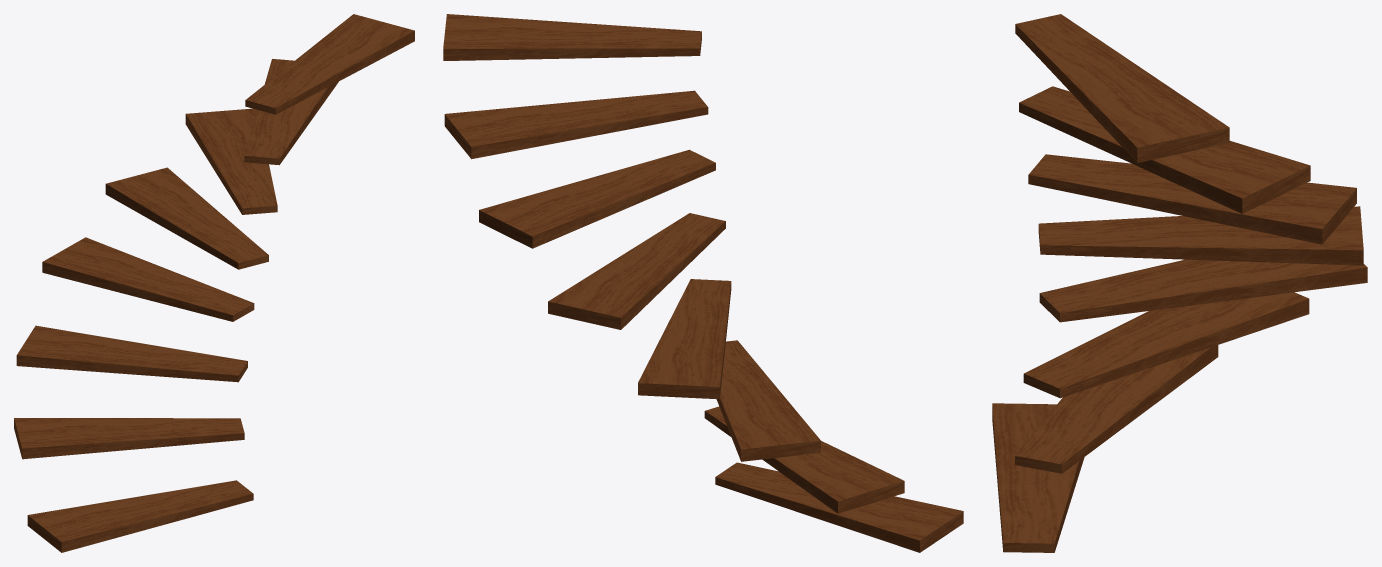
The model's file is mdl_hub_steps.gltf.
The picture shows the model from 3 angles, left to right: view 1: azimuth 30°, elevation 25°; view 2: azimuth 150°, elevation 25°; view 3: azimuth 270°, elevation 25°; orthographic projection. The views are drawn at different scales.
Parts seen in each view (by area): view 1: Wall Textures Bake.063; view 2: Wall Textures Bake.063; view 3: Wall Textures Bake.063.
Boxes of the visible parts, left/top/right/bottom form: Wall Textures Bake.063: left=14, top=14, right=414, bottom=552; Wall Textures Bake.063: left=443, top=14, right=963, bottom=552; Wall Textures Bake.063: left=992, top=14, right=1367, bottom=552.
Bounding box in the file's own units: 4.36 × 3.98 × 2.45.
1 material, 1 textured.
